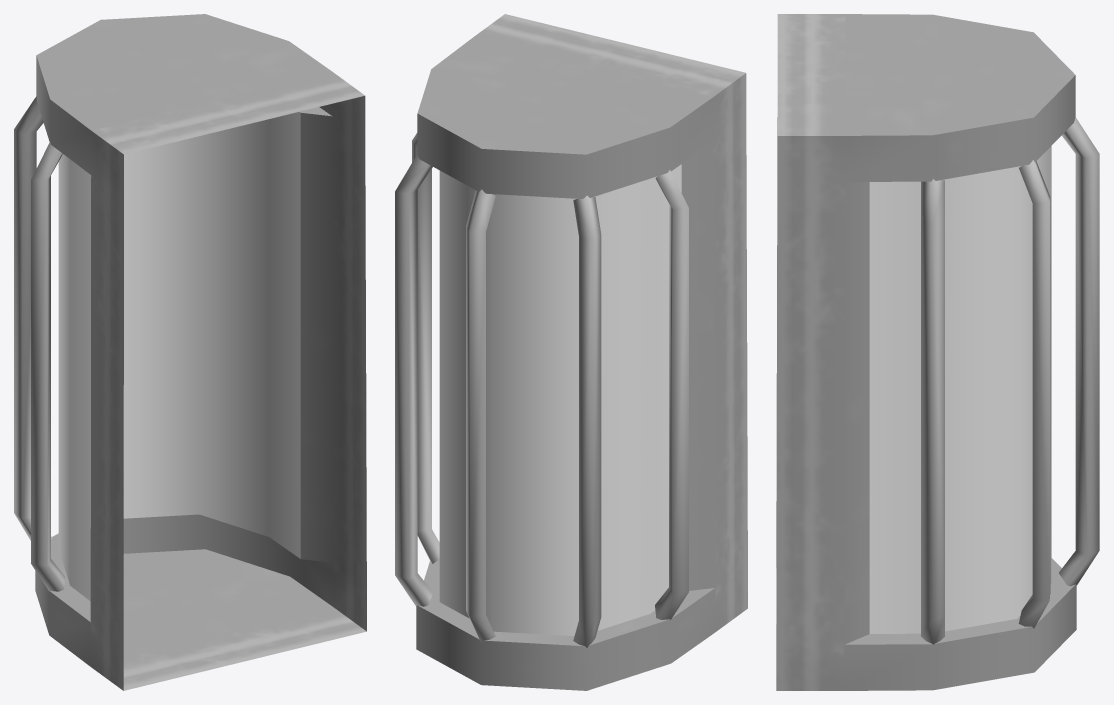
File: Industrial_Light_Wall.fbx
The picture shows the model from 3 angles, left to right: view 1: azimuth 30°, elevation 25°; view 2: azimuth 150°, elevation 25°; view 3: azimuth 270°, elevation 25°; orthographic projection. The views are drawn at different scales.
Visible parts, largest first — view 1: Cylinder.001, Cube; view 2: Cylinder.001, Cube; view 3: Cylinder.001, Cube.
Boxes of the visible parts, box(x1,y1,x2,y2) form: Cylinder.001: box(35, 14, 366, 690); Cube: box(14, 96, 65, 591); Cylinder.001: box(416, 14, 747, 690); Cube: box(395, 133, 688, 647); Cylinder.001: box(776, 14, 1076, 690); Cube: box(921, 117, 1099, 644).
Size of the model in its own units: 19.49 by 36 by 19.01.
